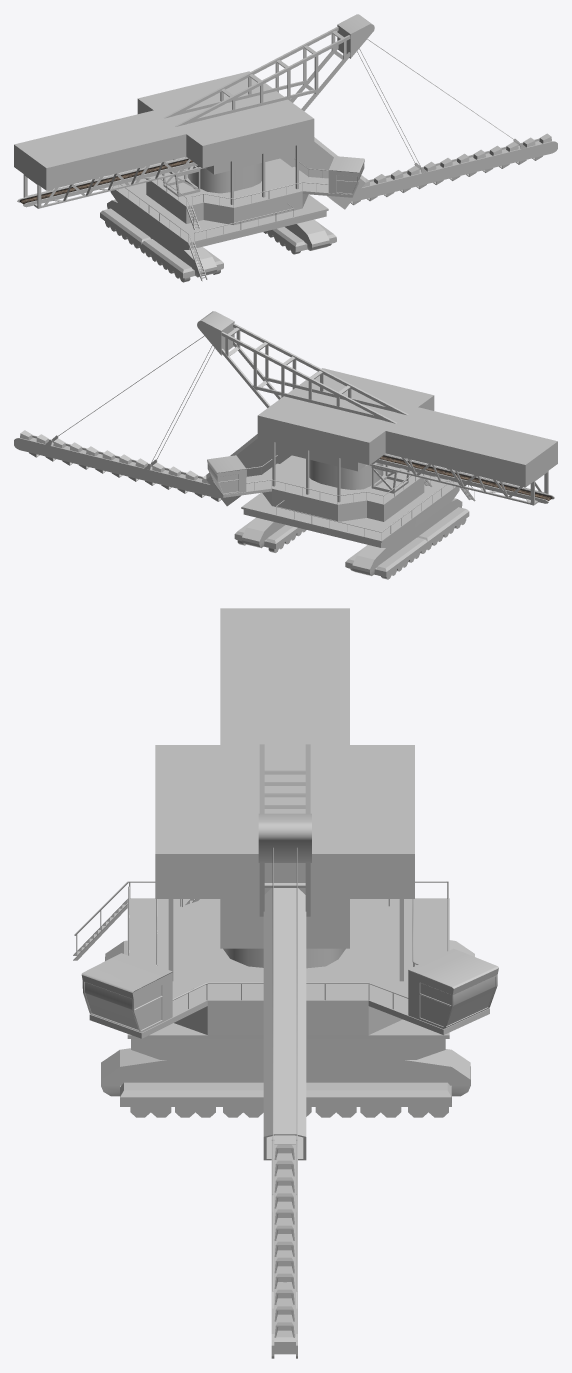
The model's file is Bucketchainexcavator.FBX.
3 renders of one model, top to bottom at view 1: azimuth 30°, elevation 25°; view 2: azimuth 150°, elevation 25°; view 3: azimuth 270°, elevation 25°, orthographic. The views are drawn at different scales.
Visible parts, largest first — view 1: bucketchainexcavator, bucketchainconveyor; view 2: bucketchainexcavator, bucketchainconveyor; view 3: bucketchainexcavator.
Part boxes in pixels (x1,y1,x2,y2): bucketchainexcavator: (14, 14, 557, 282); bucketchainconveyor: (19, 158, 193, 204); bucketchainexcavator: (14, 311, 557, 579); bucketchainconveyor: (380, 455, 552, 500); bucketchainexcavator: (73, 608, 498, 1358).
Size of the model in its own units: 59.11 by 19.26 by 20.41.
